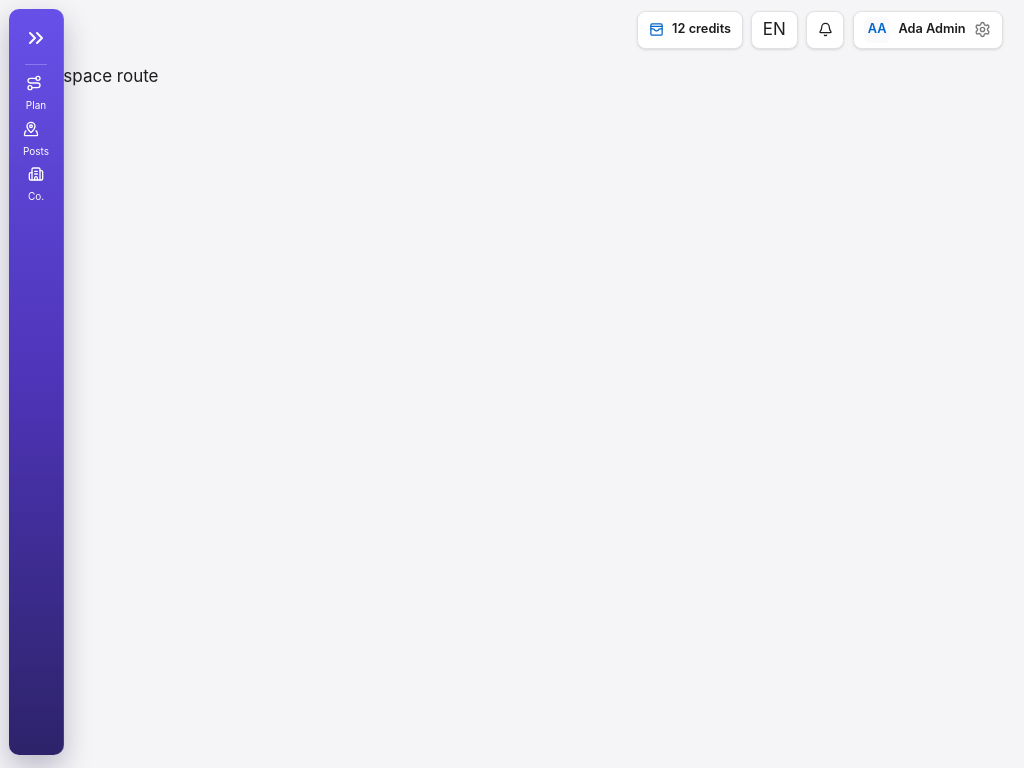
Test: AppShell navigation › hides admin-only secondary items from drivers
Click the button named "Pin sidebar": [36, 38] box x1=17 y1=21 x2=55 y2=55
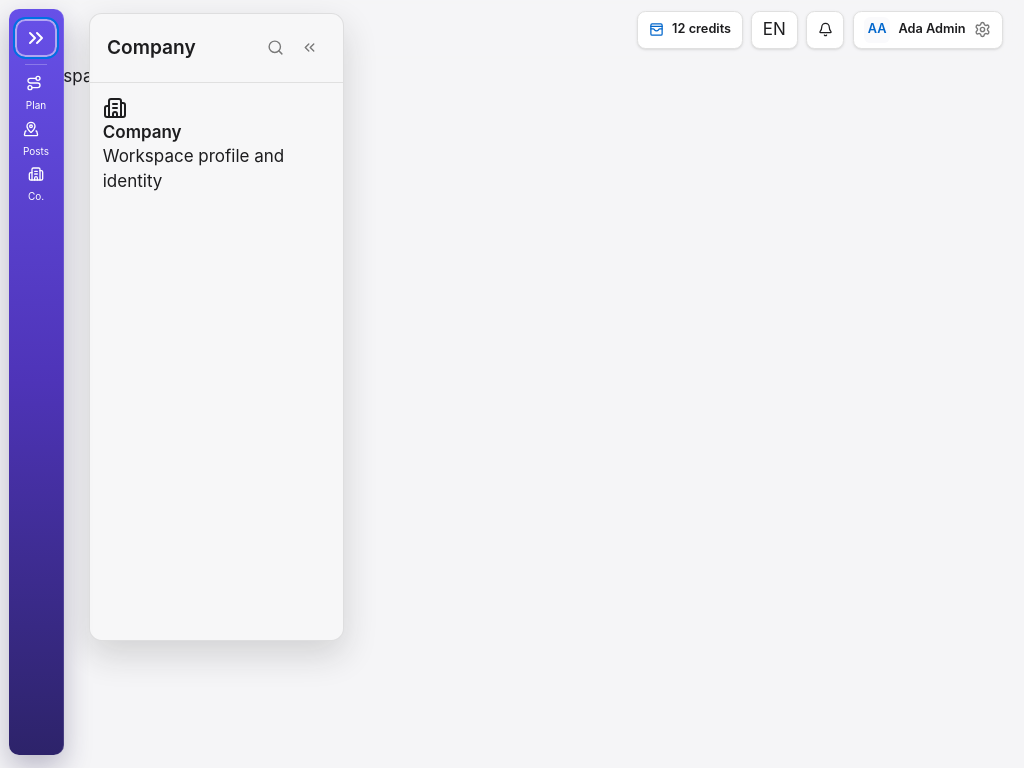
Check: the link "Company Workspace profile and identity" is shown, box x1=103 y1=96 x2=284 y2=192
